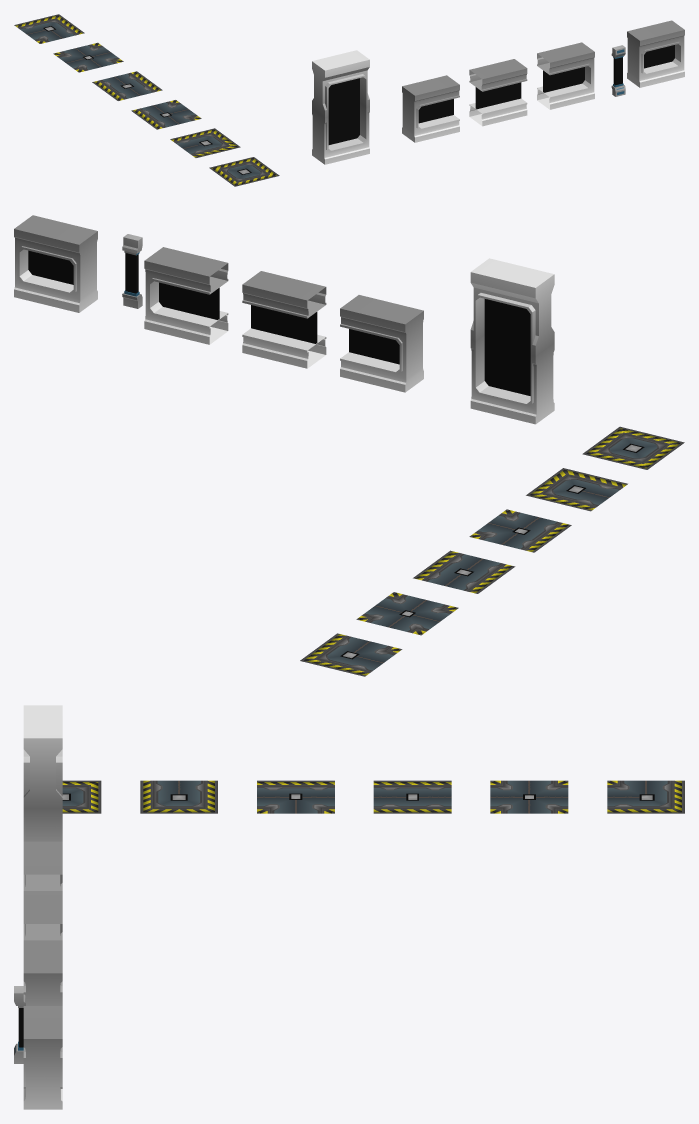
File: PisoLaserVentanas01.fbx
3 renders of one model, top to bottom at view 1: azimuth 30°, elevation 25°; view 2: azimuth 150°, elevation 25°; view 3: azimuth 270°, elevation 25°, orthographic. The views are drawn at different scales.
Parts seen in each view (by area): view 1: ParedMitad2Caras009, ParedMitad2Caras007, ParedMitad2Caras013, ParedMitad2Caras010, ParedMitad2Caras012, PisoLaser01, PisoLaser002, PisoLaser004, PisoLaser008, PisoLaser003, PisoLaser007, Object001; view 2: ParedMitad2Caras009, ParedMitad2Caras007, ParedMitad2Caras013, ParedMitad2Caras010, ParedMitad2Caras012, PisoLaser008, PisoLaser002, PisoLaser004, PisoLaser007, PisoLaser003, PisoLaser01, Object001; view 3: ParedMitad2Caras009, ParedMitad2Caras007, PisoLaser01, PisoLaser004, PisoLaser002, PisoLaser003, PisoLaser007, ParedMitad2Caras013, ParedMitad2Caras010, ParedMitad2Caras012, PisoLaser008, Object001.
Boxes of the visible parts, x1=… form: ParedMitad2Caras009: x1=312, y1=50, x2=369, y2=164; ParedMitad2Caras007: x1=627, y1=20, x2=684, y2=87; ParedMitad2Caras013: x1=537, y1=42, x2=594, y2=109; ParedMitad2Caras010: x1=402, y1=75, x2=459, y2=142; ParedMitad2Caras012: x1=469, y1=59, x2=527, y2=126; PisoLaser01: x1=92, y1=71, x2=162, y2=100; PisoLaser002: x1=14, y1=14, x2=84, y2=43; PisoLaser004: x1=53, y1=42, x2=123, y2=72; PisoLaser008: x1=209, y1=157, x2=279, y2=186; PisoLaser003: x1=131, y1=100, x2=201, y2=129; PisoLaser007: x1=170, y1=128, x2=240, y2=157; Object001: x1=611, y1=45, x2=625, y2=96; ParedMitad2Caras009: x1=470, y1=258, x2=554, y2=424; ParedMitad2Caras007: x1=14, y1=215, x2=97, y2=312; ParedMitad2Caras013: x1=144, y1=247, x2=228, y2=344; ParedMitad2Caras010: x1=340, y1=295, x2=423, y2=392; ParedMitad2Caras012: x1=242, y1=271, x2=326, y2=368; PisoLaser008: x1=582, y1=426, x2=684, y2=469; PisoLaser002: x1=300, y1=633, x2=402, y2=676; PisoLaser004: x1=356, y1=592, x2=458, y2=635; PisoLaser007: x1=526, y1=468, x2=627, y2=511; PisoLaser003: x1=469, y1=509, x2=571, y2=552; PisoLaser01: x1=413, y1=550, x2=515, y2=593; Object001: x1=122, y1=234, x2=142, y2=308; ParedMitad2Caras009: x1=23, y1=705, x2=62, y2=841; ParedMitad2Caras007: x1=23, y1=1006, x2=62, y2=1109; PisoLaser01: x1=373, y1=780, x2=451, y2=813; PisoLaser004: x1=490, y1=780, x2=568, y2=813; PisoLaser002: x1=607, y1=780, x2=684, y2=813; PisoLaser003: x1=257, y1=780, x2=334, y2=813; PisoLaser007: x1=140, y1=780, x2=217, y2=813; ParedMitad2Caras013: x1=23, y1=940, x2=62, y2=1005; ParedMitad2Caras010: x1=23, y1=841, x2=62, y2=890; ParedMitad2Caras012: x1=23, y1=891, x2=62, y2=940; PisoLaser008: x1=62, y1=780, x2=101, y2=813; Object001: x1=14, y1=986, x2=25, y2=1063.
Size of the model in its own units: 394 by 78.74 by 340.
4 materials, 2 textured.
